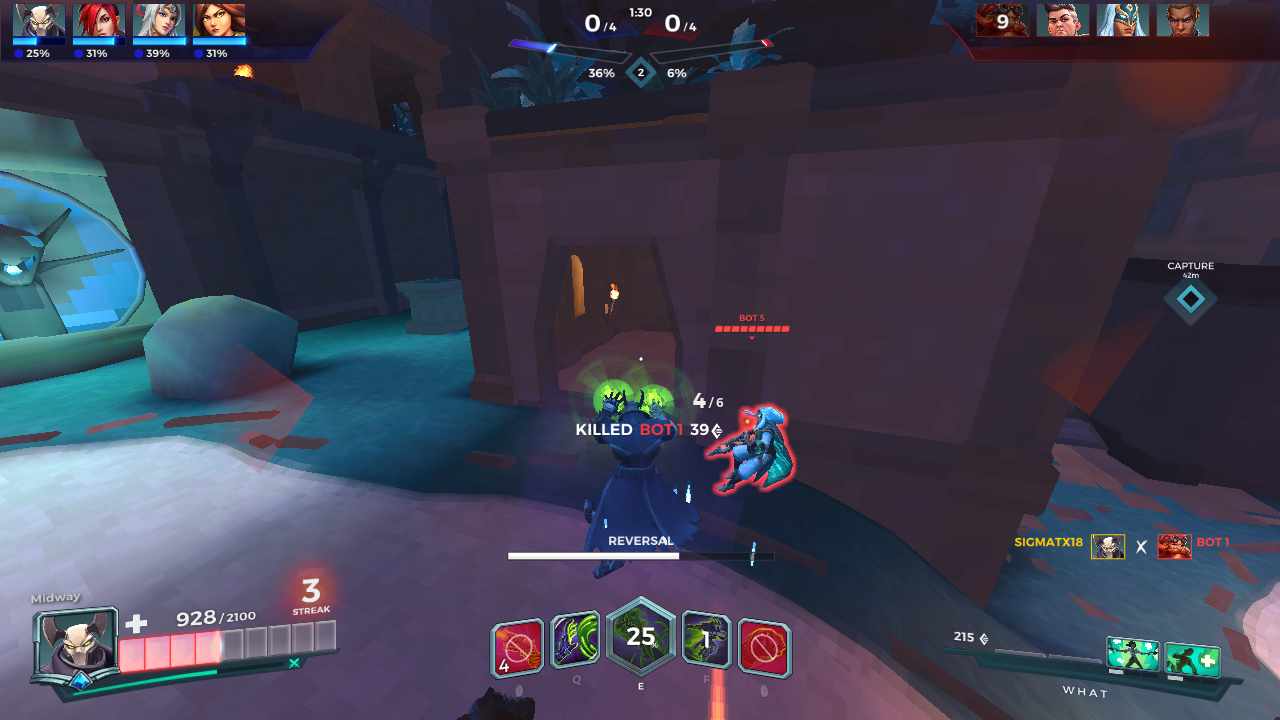model: (729, 401, 801, 500)
